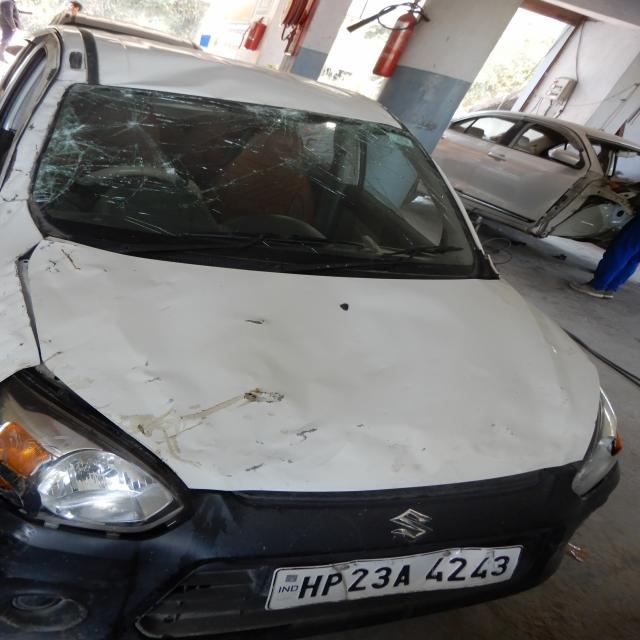damage: (38, 108, 373, 232), (1, 390, 189, 539), (24, 251, 152, 399), (125, 380, 313, 464), (91, 50, 212, 92)
